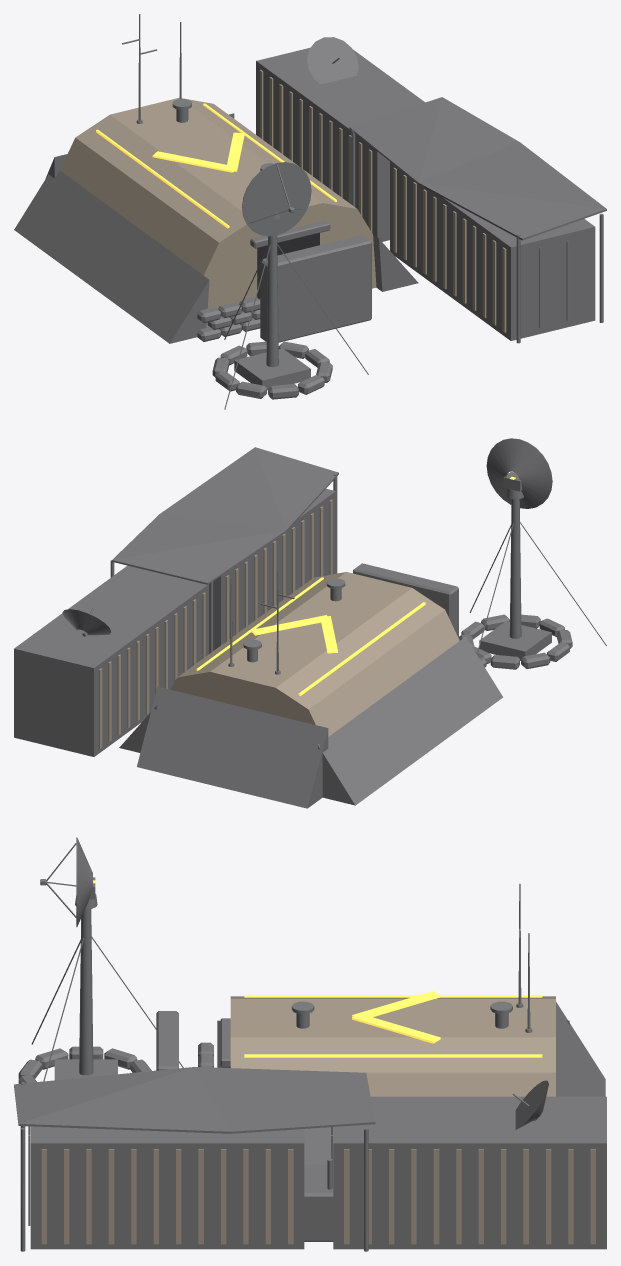
The model's file is hvt_red.glb.
The picture shows the model from 3 angles, top to bottom: view 1: azimuth 30°, elevation 25°; view 2: azimuth 150°, elevation 25°; view 3: azimuth 270°, elevation 25°; orthographic projection. The views are drawn at different scales.
Parts seen in each view (by area): view 1: body, gun; view 2: body, gun; view 3: body, gun.
Boxes of the visible parts, x1=… form: body: x1=14, y1=14, x2=606, y2=409; gun: x1=242, y1=162, x2=311, y2=236; body: x1=14, y1=447, x2=606, y2=808; gun: x1=486, y1=438, x2=552, y2=508; body: x1=14, y1=883, x2=606, y2=1251; gun: x1=40, y1=837, x2=92, y2=927.
Size of the model in its own units: 11.09 by 5.95 by 13.13.
